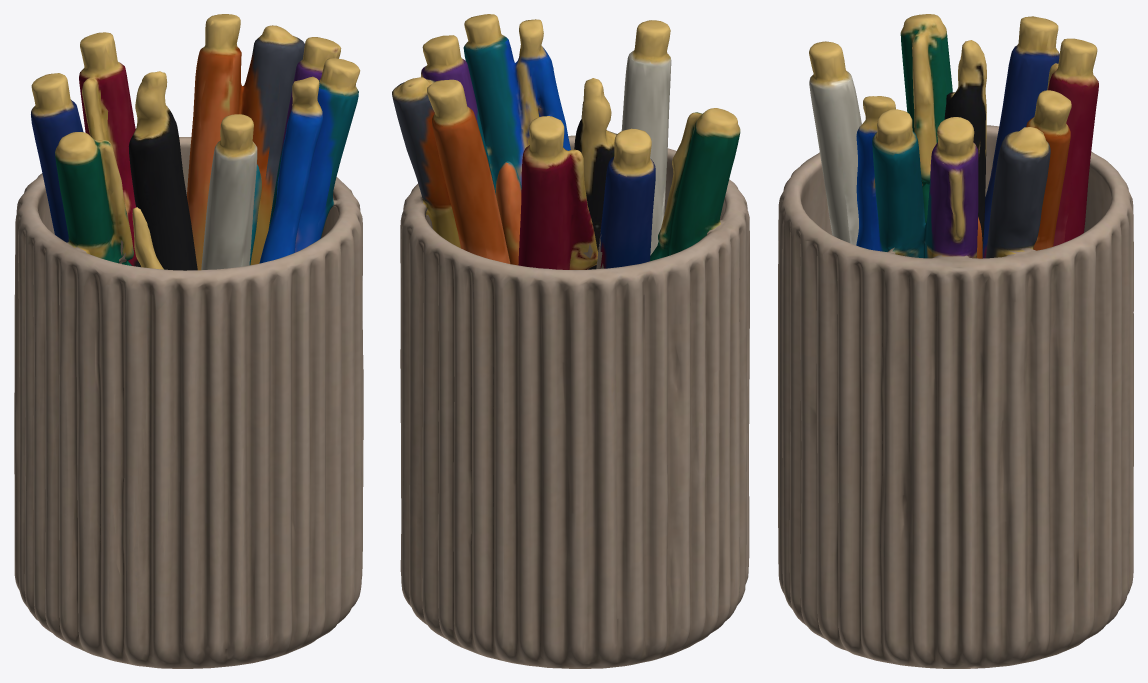
The model's file is pen-holder-table-ready.glb.
3 views of the same model, side by side, from view 1: azimuth 30°, elevation 25°; view 2: azimuth 150°, elevation 25°; view 3: azimuth 270°, elevation 25° (orthographic). The views are drawn at different scales.
Visible parts, largest first — view 1: pen_holder; view 2: pen_holder; view 3: pen_holder.
Part boxes in pixels (bbox=[...]): pen_holder: bbox=[14, 14, 363, 668]; pen_holder: bbox=[392, 14, 749, 668]; pen_holder: bbox=[778, 14, 1133, 668].
Size of the model in its own units: 0.0779 by 0.1332 by 0.0774.
Materials: 1 (1 with a texture image).
